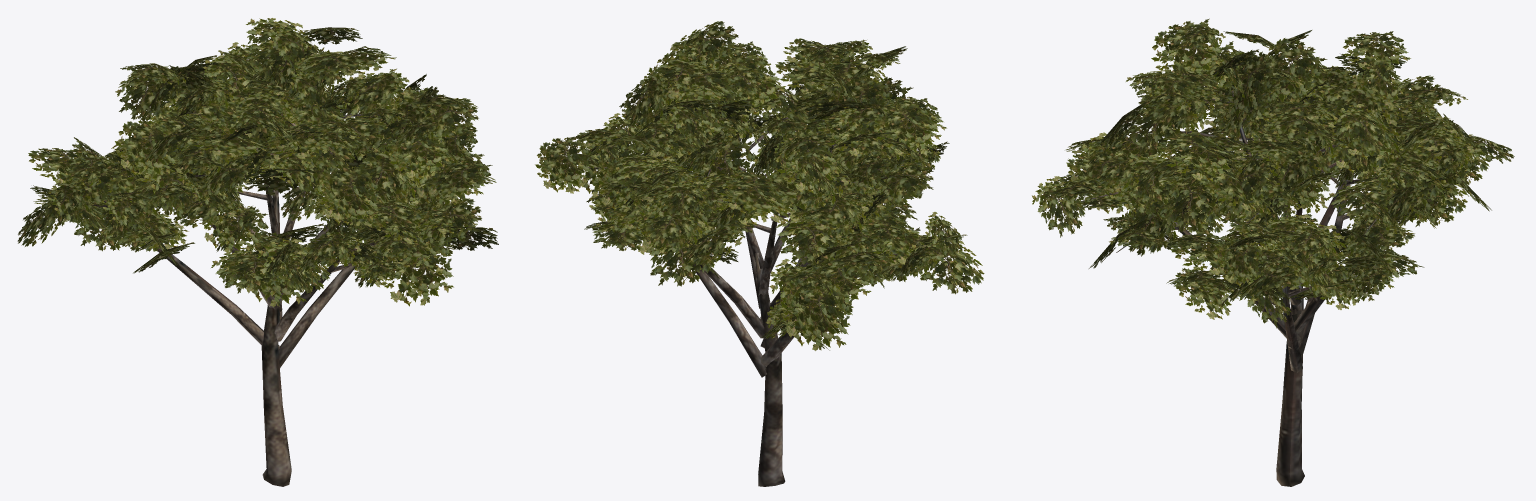
The model's file is park-sycamore-distant.glb.
3 views of the same model, side by side, from view 1: azimuth 30°, elevation 25°; view 2: azimuth 150°, elevation 25°; view 3: azimuth 270°, elevation 25° (orthographic).
Visible parts, largest first — view 1: Frame; view 2: Frame; view 3: Frame.
Boxes of the visible parts, bbox=[...] form: Frame: bbox=[17, 18, 498, 486]; Frame: bbox=[535, 21, 984, 486]; Frame: bbox=[1032, 18, 1514, 486].
Bounding box in the file's own units: 8.44 × 7.65 × 8.11.
Materials: 2 (2 with a texture image).
